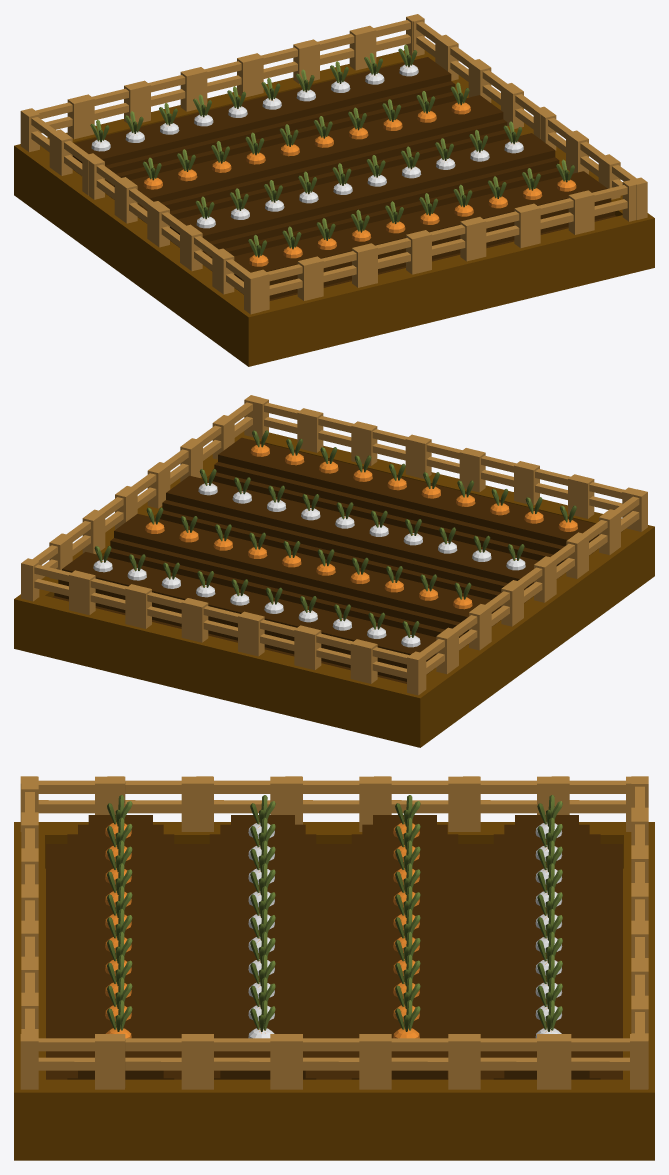
The model's file is Gerden.fbx.
3 views of the same model, one above another, from view 1: azimuth 30°, elevation 25°; view 2: azimuth 150°, elevation 25°; view 3: azimuth 270°, elevation 25° (orthographic). The views are drawn at different scales.
Parts seen in each view (by area): view 1: Cube.004, Cube.001, carrot_1.001, carrot_1, carrot_1.002, carrot_1.003, Fence.023, Fence.011, Fence.012, Fence.026, Fence.009, Fence.024 (+22 smaller); view 2: Cube.004, Cube.001, carrot_1, carrot_1.001, carrot_1.002, carrot_1.003, Fence.028, Fence.026, Fence.023, Fence.025, Fence.024, Fence.027 (+22 smaller); view 3: Cube.001, Cube.004, carrot_1.001, carrot_1.002, carrot_1, carrot_1.003, Fence.015, Fence.014, Fence.019, Fence.018, Fence.016, Fence.017 (+22 smaller).
Part boxes in pixels (x1,y1,x2,y2): Cube.004: [72, 57, 614, 299]; Cube.001: [14, 50, 654, 366]; carrot_1.001: [142, 82, 470, 189]; carrot_1: [248, 159, 576, 266]; carrot_1.002: [195, 121, 523, 228]; carrot_1.003: [90, 44, 418, 151]; Fence.023: [303, 28, 366, 81]; Fence.011: [470, 206, 531, 259]; Fence.012: [525, 193, 585, 245]; Fence.026: [134, 69, 197, 122]; Fence.009: [362, 232, 422, 285]; Fence.024: [247, 42, 310, 95]; Cube.004: [54, 437, 598, 681]; Cube.001: [14, 431, 654, 747]; carrot_1: [250, 430, 577, 531]; carrot_1.001: [145, 507, 472, 609]; carrot_1.002: [198, 469, 525, 570]; carrot_1.003: [93, 546, 420, 647]; Fence.028: [360, 642, 424, 695]; Fence.026: [247, 614, 311, 667]; Fence.023: [78, 573, 142, 626]; Fence.025: [191, 600, 254, 653]; Fence.024: [134, 587, 197, 639]; Fence.027: [303, 628, 367, 681]; Cube.001: [14, 822, 654, 1160]; Cube.004: [67, 815, 600, 1079]; carrot_1.001: [393, 795, 420, 1038]; carrot_1.002: [248, 795, 275, 1038]; carrot_1: [105, 795, 132, 1038]; carrot_1.003: [535, 795, 562, 1038]; Fence.015: [553, 1034, 648, 1089]; Fence.014: [20, 1034, 112, 1089]; Fence.019: [196, 1034, 288, 1089]; Fence.018: [285, 1034, 376, 1089]; Fence.016: [463, 1034, 554, 1089]; Fence.017: [374, 1034, 465, 1089].
Bounding box in the file's own units: 6 × 1.26 × 6.
